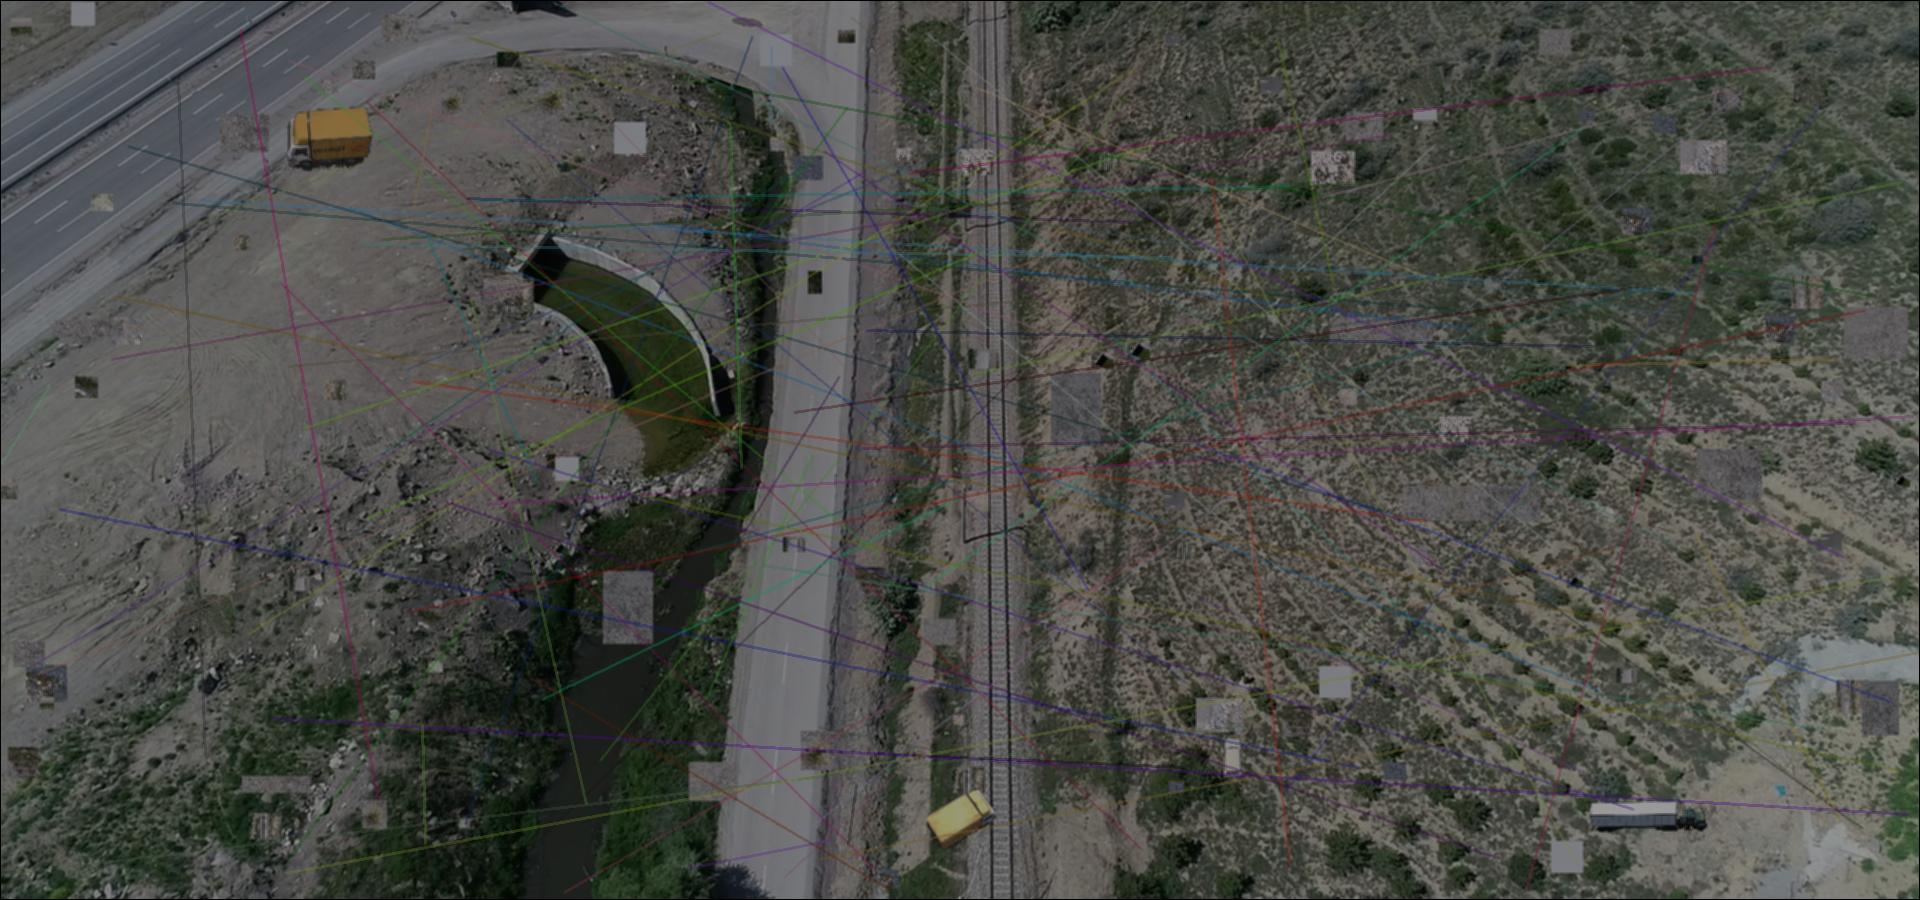arac: (285, 107, 372, 171), (927, 784, 998, 849), (1588, 801, 1707, 833), (1223, 738, 1243, 779)
